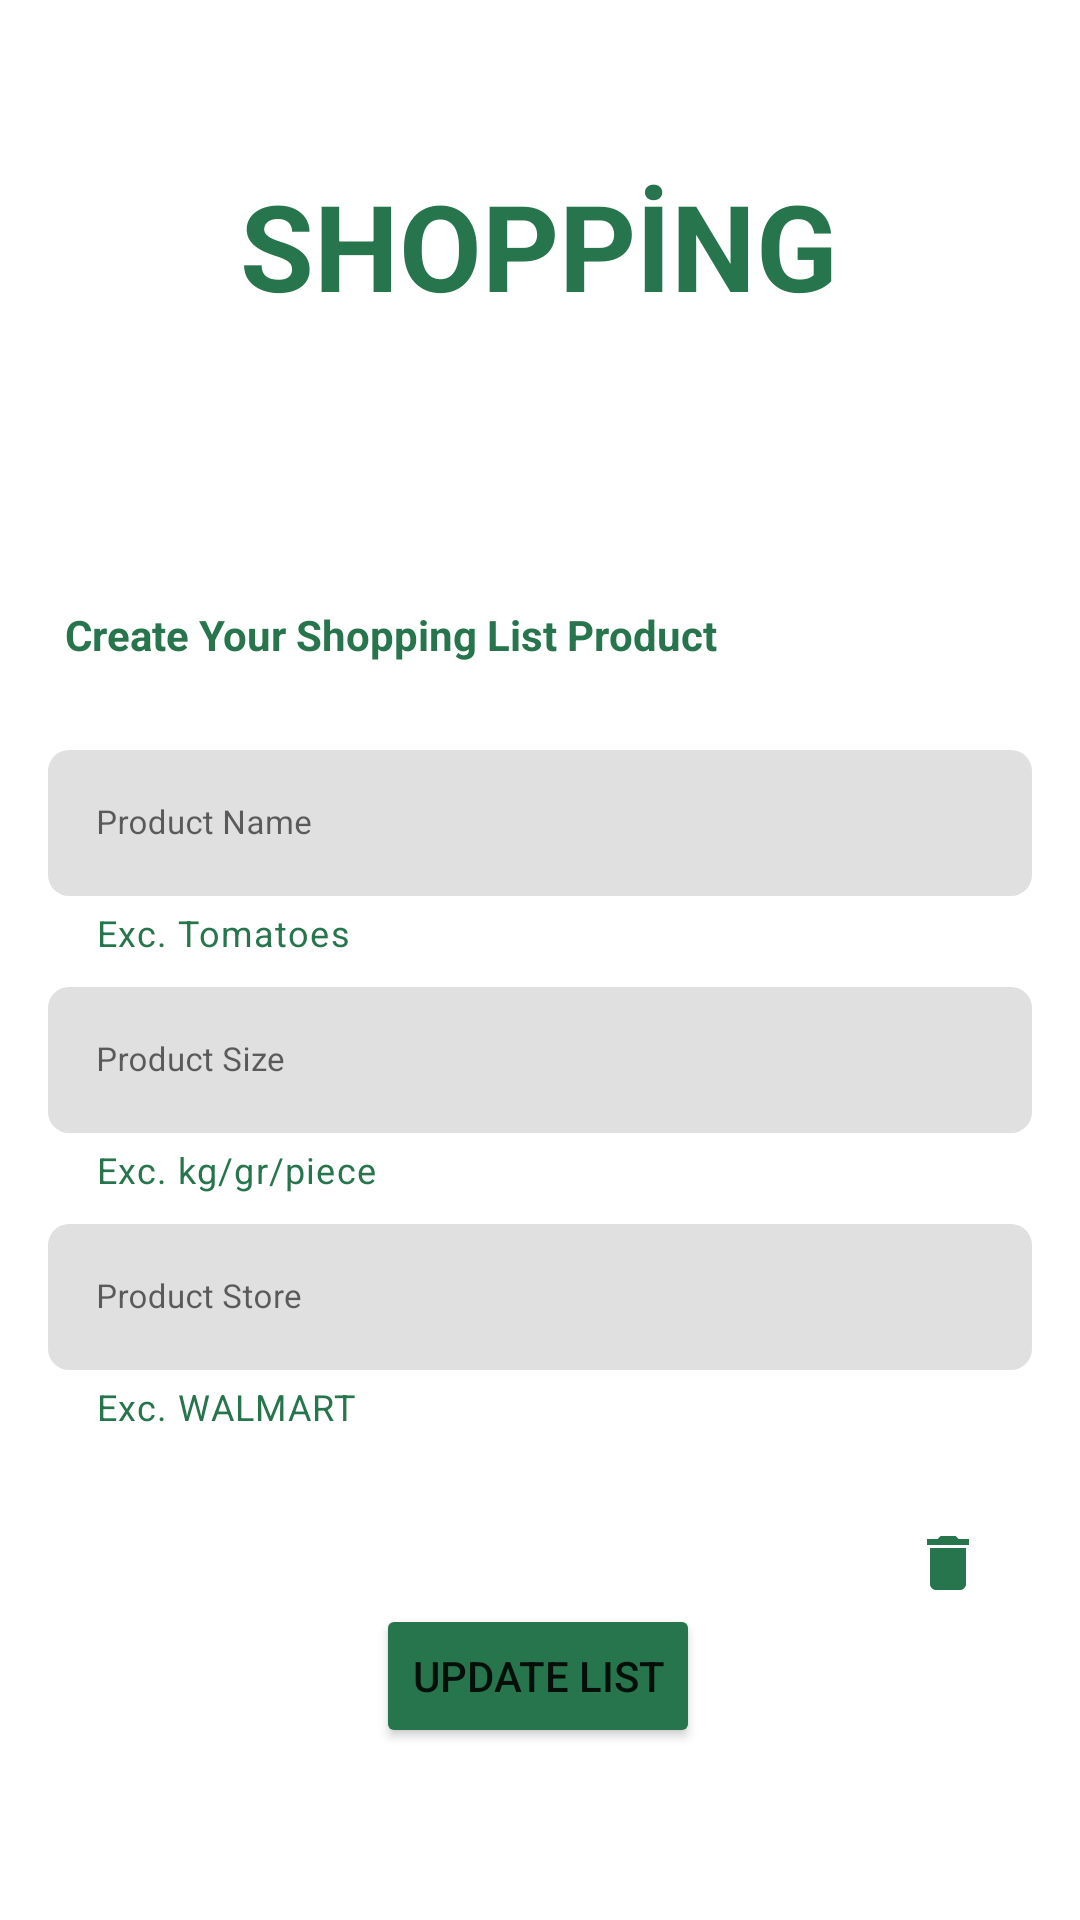

Named icons in this screenshot (1080×1920) and their bounding boxes, (x1, y1, x2, y2):
delete: (927, 1536, 969, 1590)
